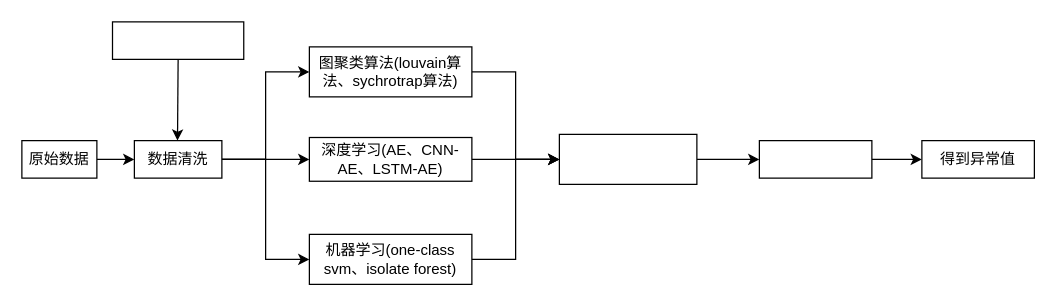
This 1056x306 diagram has some shape labels left out. Here are the shapes that lost their labels. From the top down, the centre of each, then its label:
[177,40]: Time Enrichment
[627,158]: Stacking/Blending
[815,158]: 分析异常值评分
